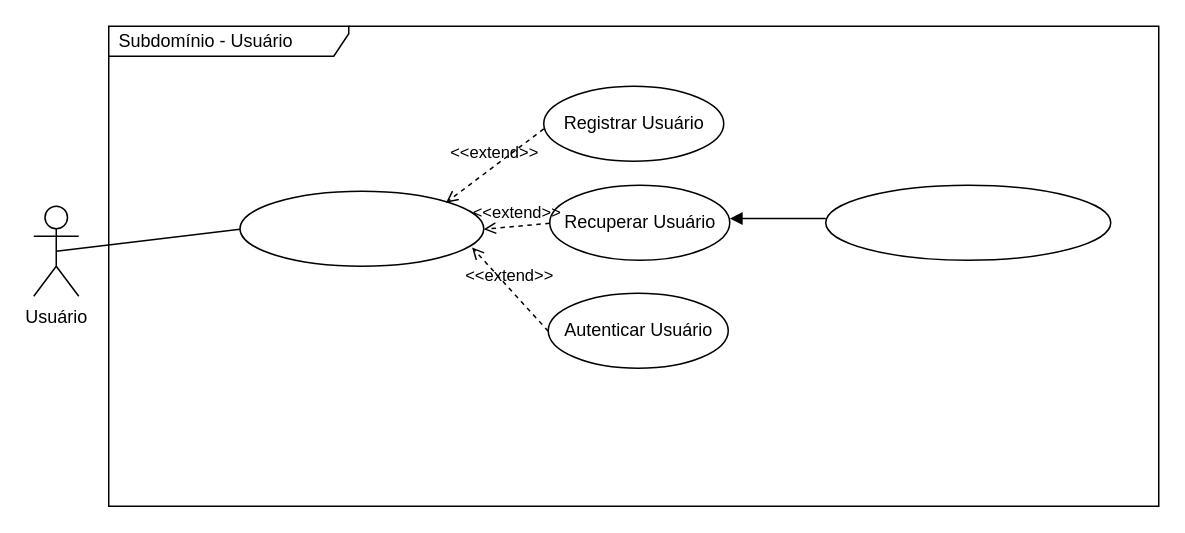
The diagram is 1185 pixels wide and 533 high, and some of its shapes have lost their labels. Here are the shapes that lost their labels. From the top down, the centre of each, then its label:
At (361,228): "Gerenciar Usuário".
At (967,222): "Recuperar Usuáriopor Email".
